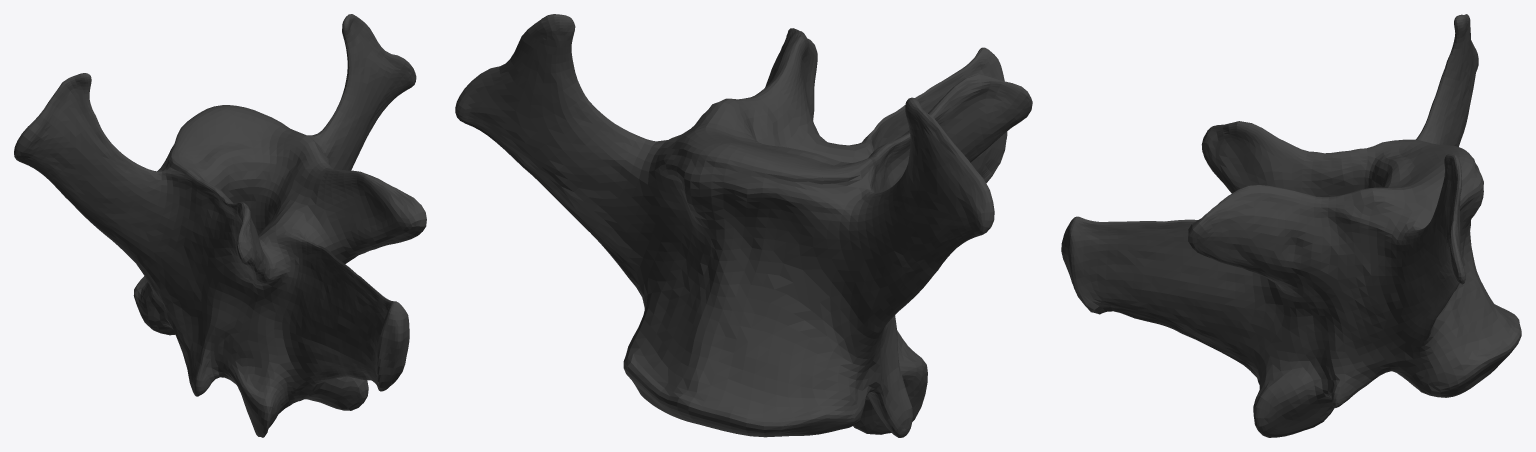
3 views of the same model, side by side, from view 1: azimuth 30°, elevation 25°; view 2: azimuth 150°, elevation 25°; view 3: azimuth 270°, elevation 25° (orthographic). The views are drawn at different scales.
Parts seen in each view (by area): view 1: l3_low; view 2: l3_low; view 3: l3_low.
Part boxes in pixels (x1,y1,x2,y2): l3_low: [14, 14, 426, 437]; l3_low: [455, 14, 1032, 437]; l3_low: [1061, 14, 1521, 437].
Size of the model in its own units: 66.23 by 51.79 by 63.27.
Materials: 1 (1 with a texture image).
